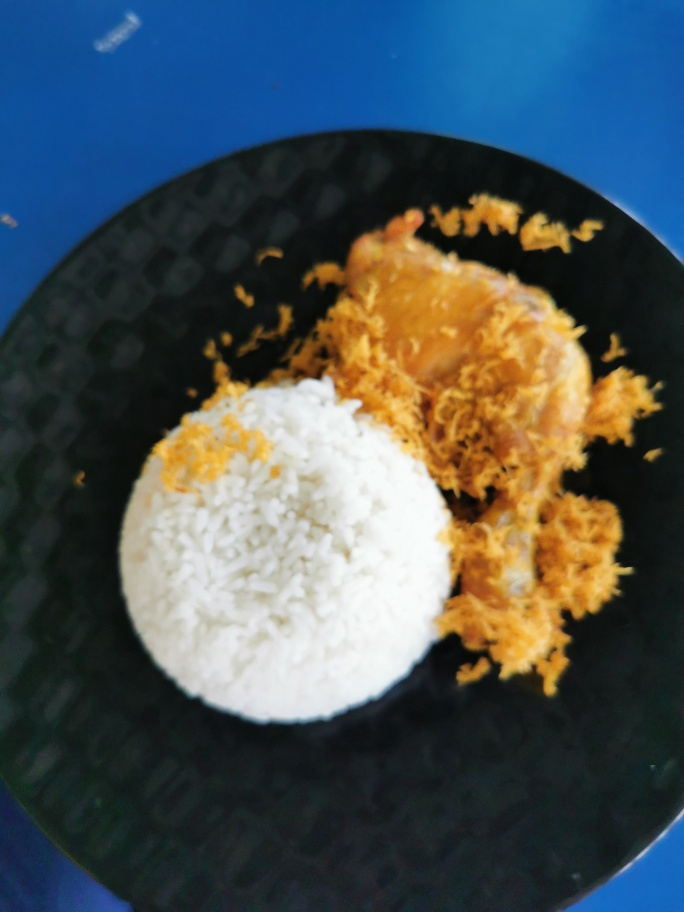ayam goreng: (332, 187, 617, 695)
nasi putih: (112, 368, 459, 715)
